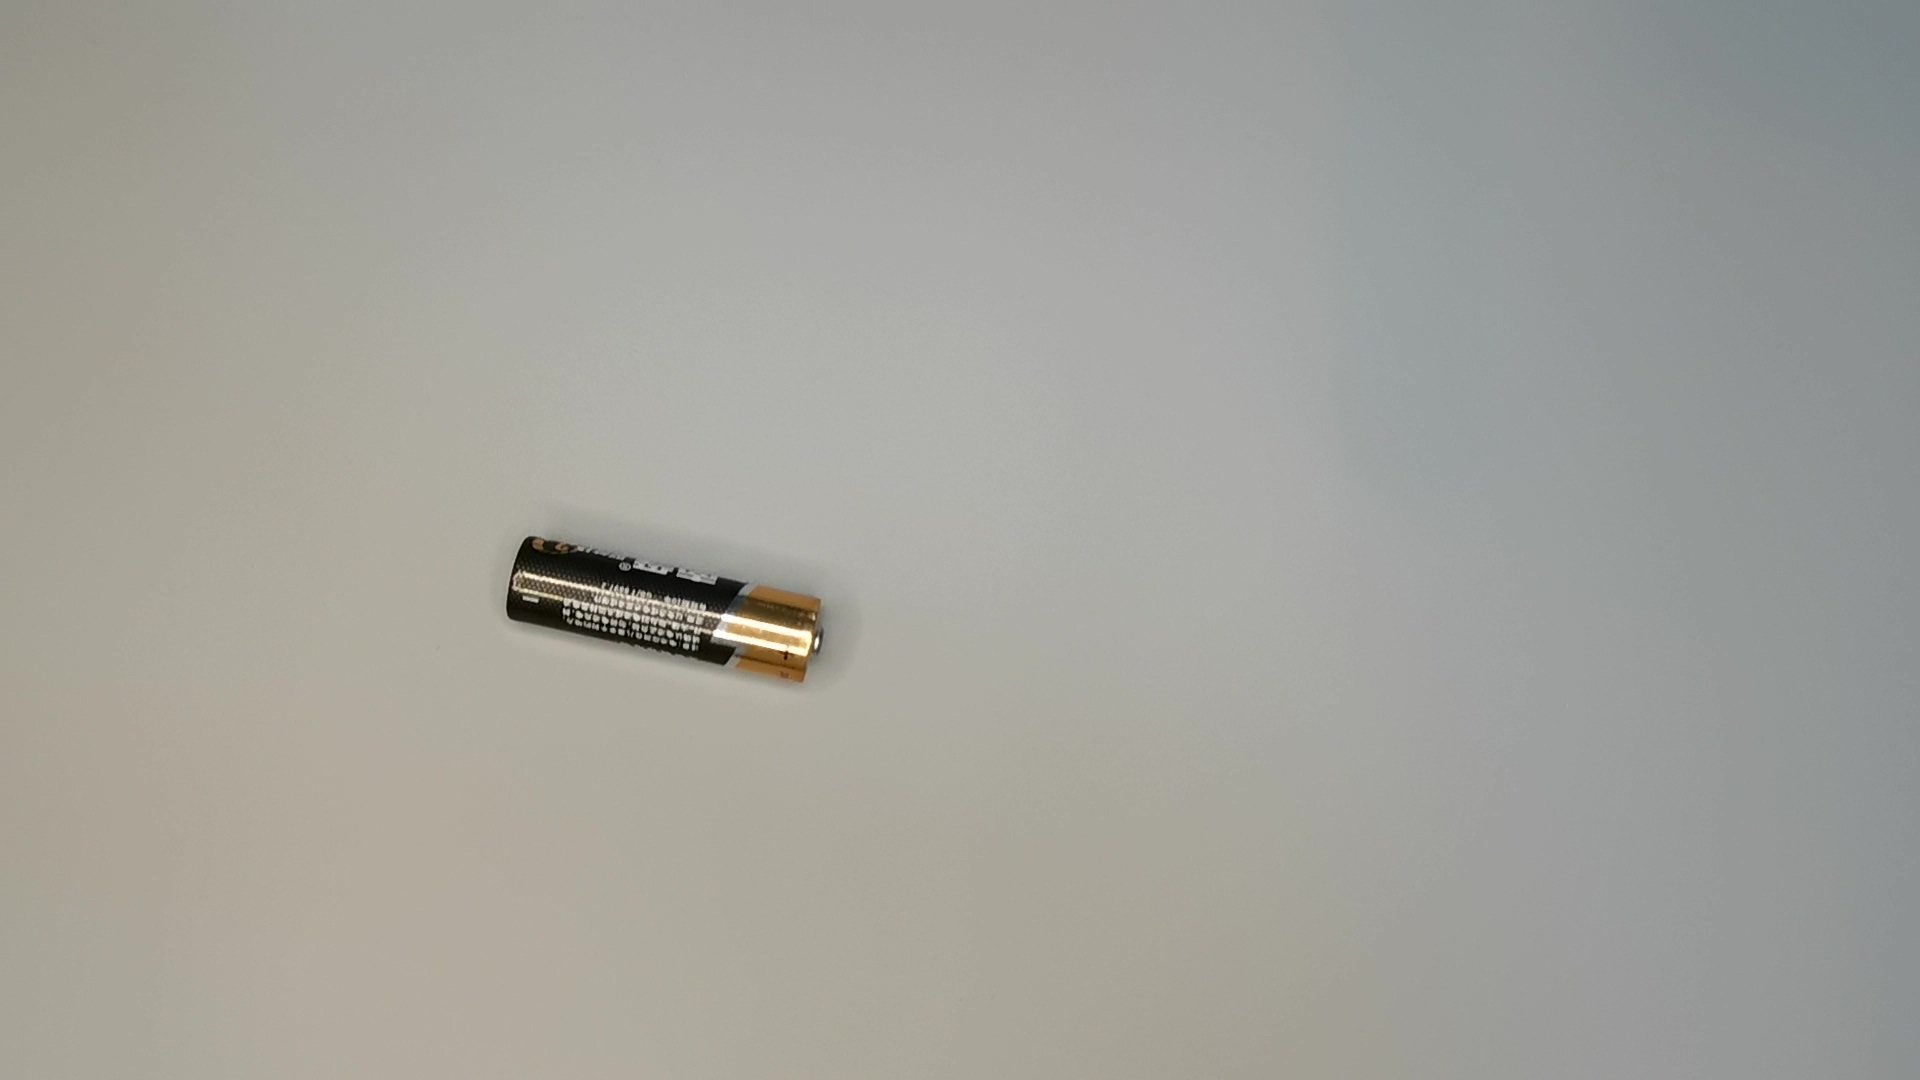battery: (496, 535, 840, 691)
